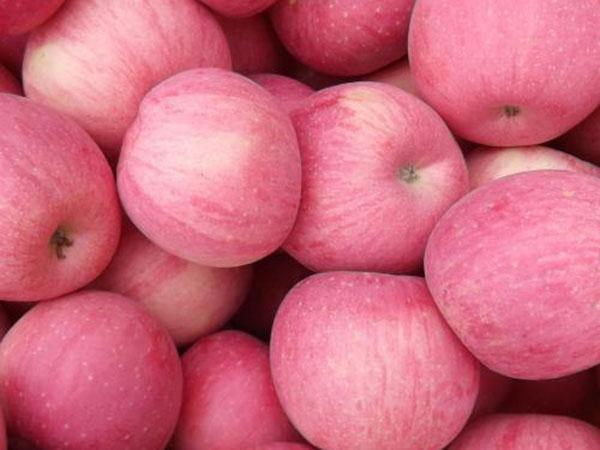apple: (115, 68, 302, 271), (266, 273, 480, 446), (425, 170, 597, 384), (277, 81, 468, 273), (20, 2, 235, 153), (2, 288, 183, 450), (407, 2, 600, 146), (1, 89, 122, 305), (171, 331, 301, 446), (265, 1, 412, 76)
